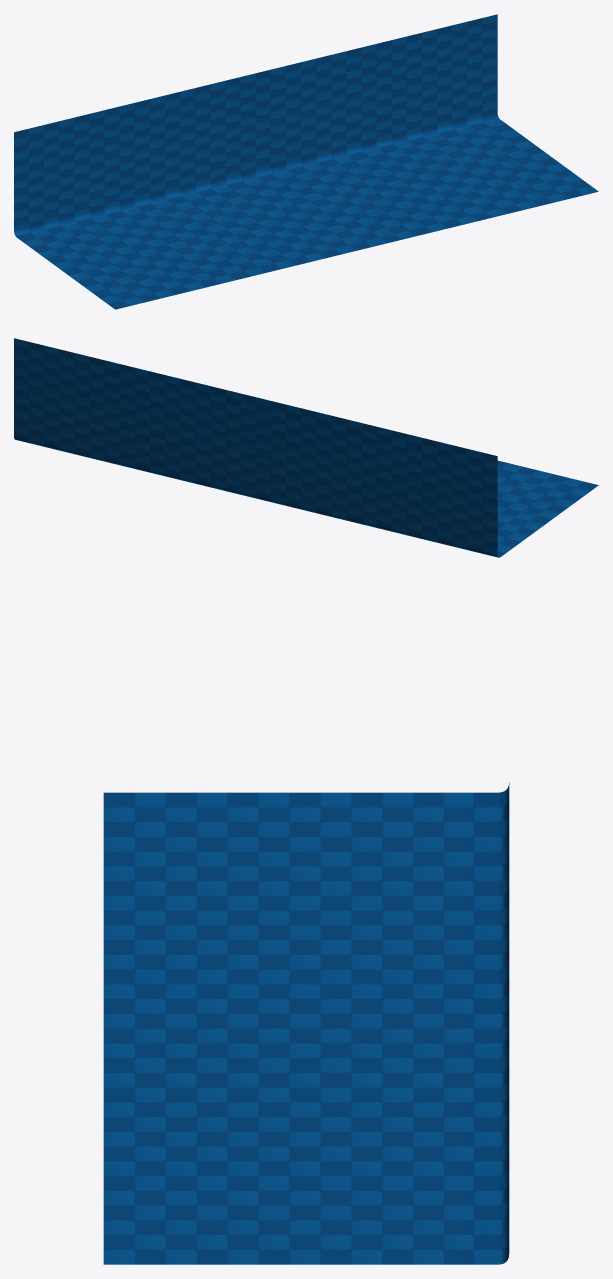
File: RewardBox_Ground.fbx
3 views of the same model, one above another, from view 1: azimuth 30°, elevation 25°; view 2: azimuth 150°, elevation 25°; view 3: azimuth 270°, elevation 25° (orthographic). The views are drawn at different scales.
Visible parts, largest first — view 1: Plane001; view 2: Plane001; view 3: Plane001.
Part boxes in pixels (left/top/right/bottom): Plane001: left=14, top=14, right=598, bottom=309; Plane001: left=14, top=338, right=598, bottom=557; Plane001: left=103, top=782, right=509, bottom=1264.
Size of the model in its own units: 3193 by 651 by 1159.
1 material, 1 textured.
